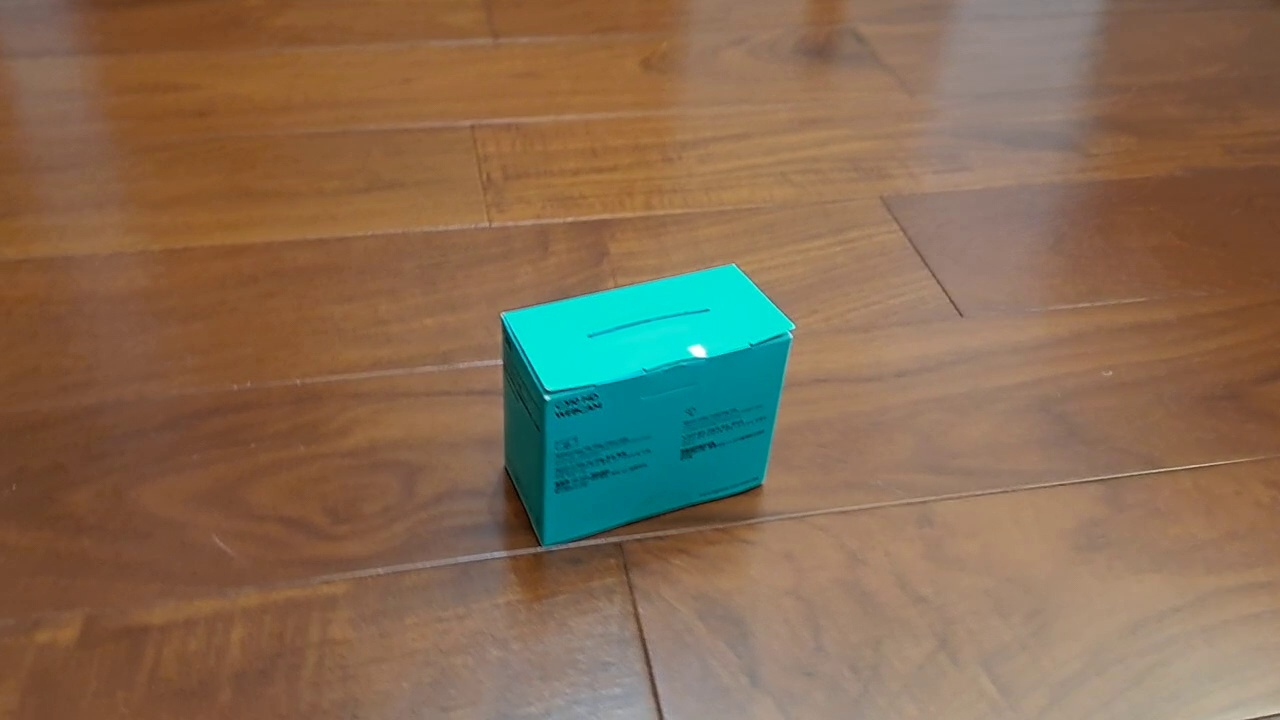webcam: (498, 262, 797, 550)
